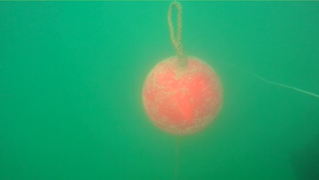buoy: (141, 54, 223, 137)
